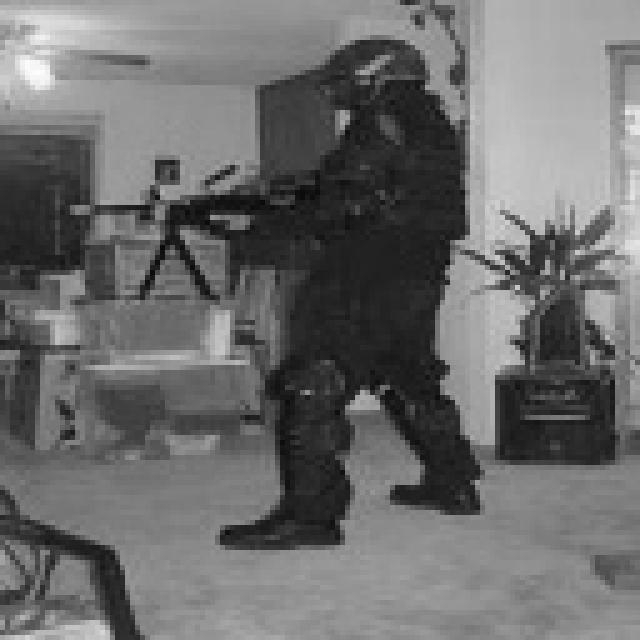Rifle: (39, 142, 376, 312)
